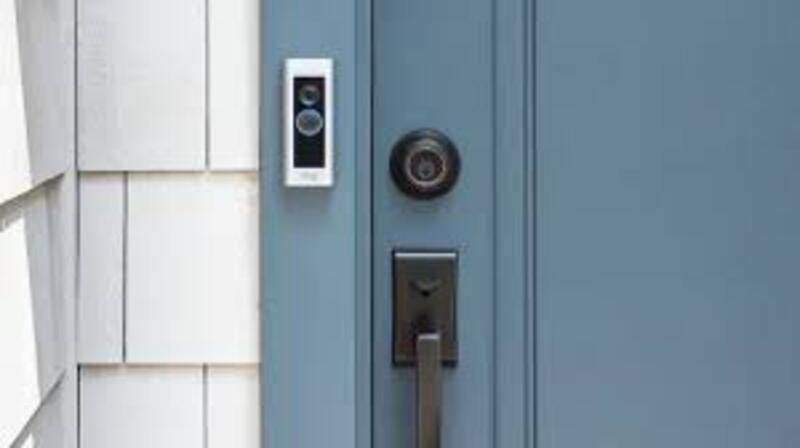doorbell: (280, 52, 338, 191)
